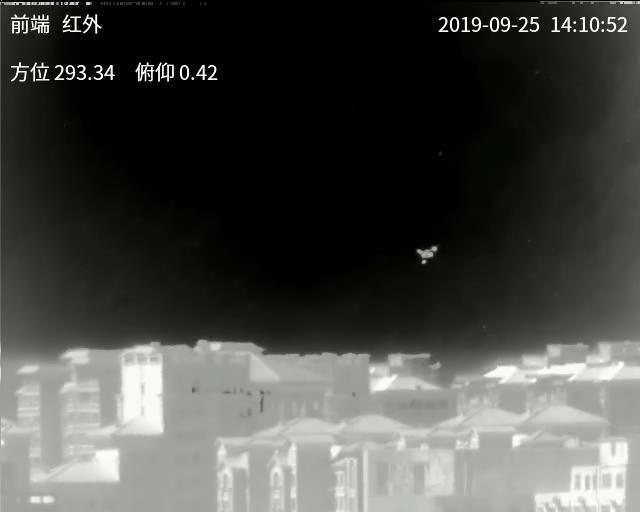uav: (414, 241, 438, 265)
